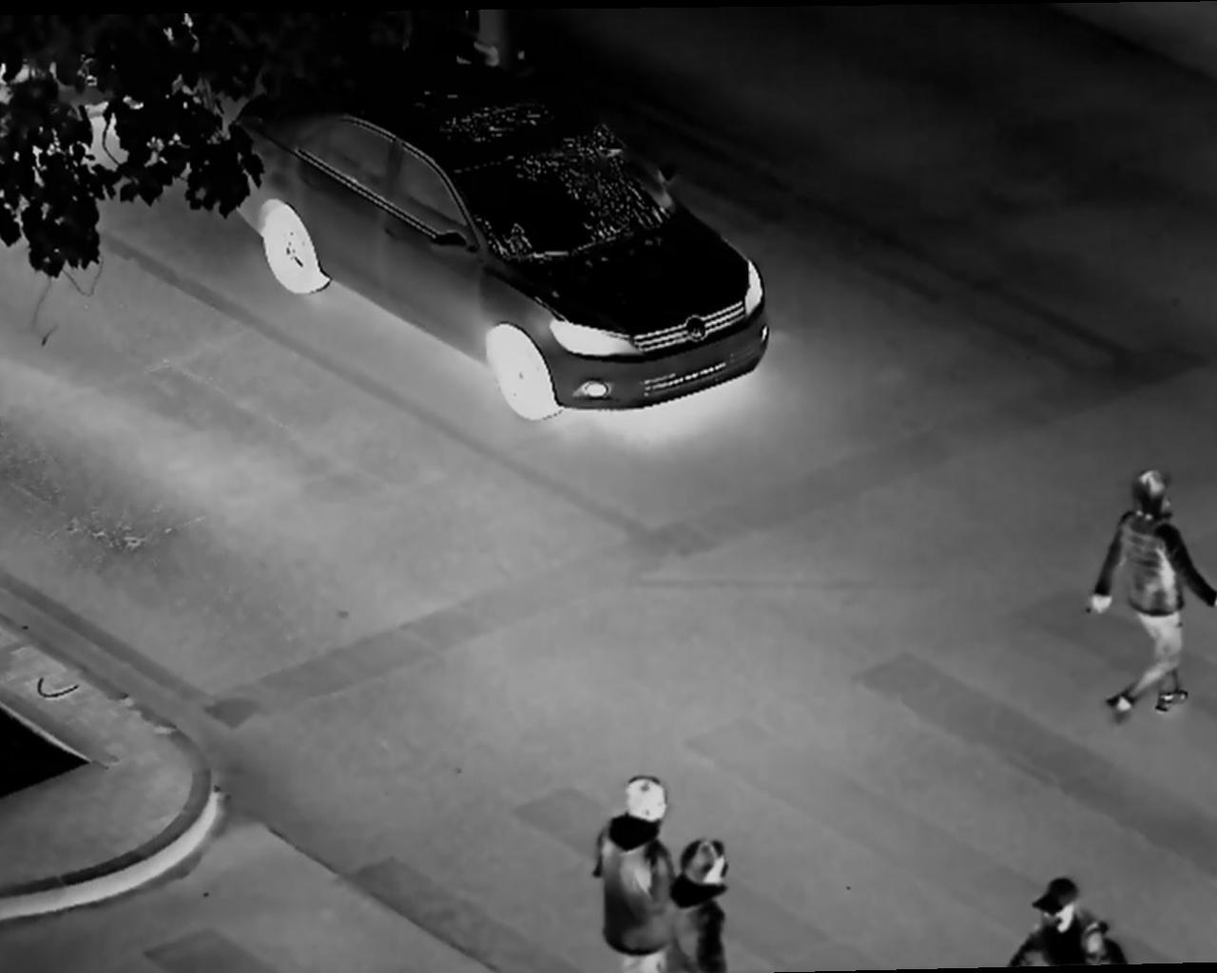person: (1105, 460, 1217, 715), (600, 770, 682, 973), (1003, 875, 1155, 973), (675, 830, 744, 970)
